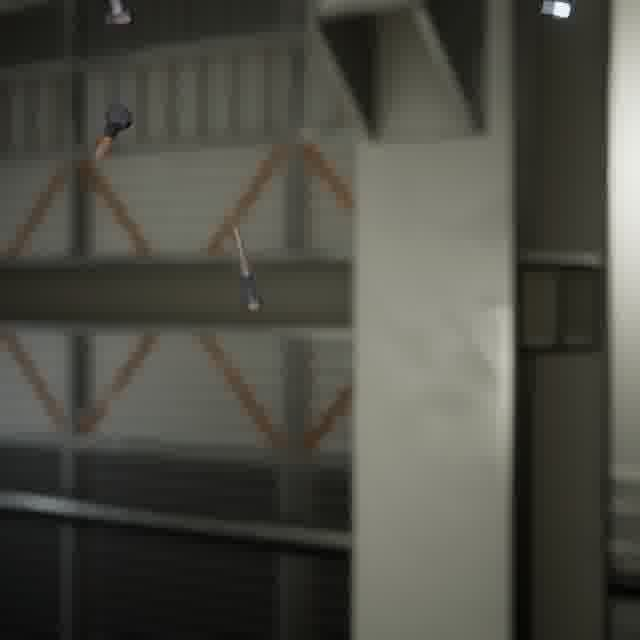bolt: (228, 220, 267, 314), (88, 99, 137, 163), (100, 0, 137, 31)
nut: (537, 0, 578, 25)
